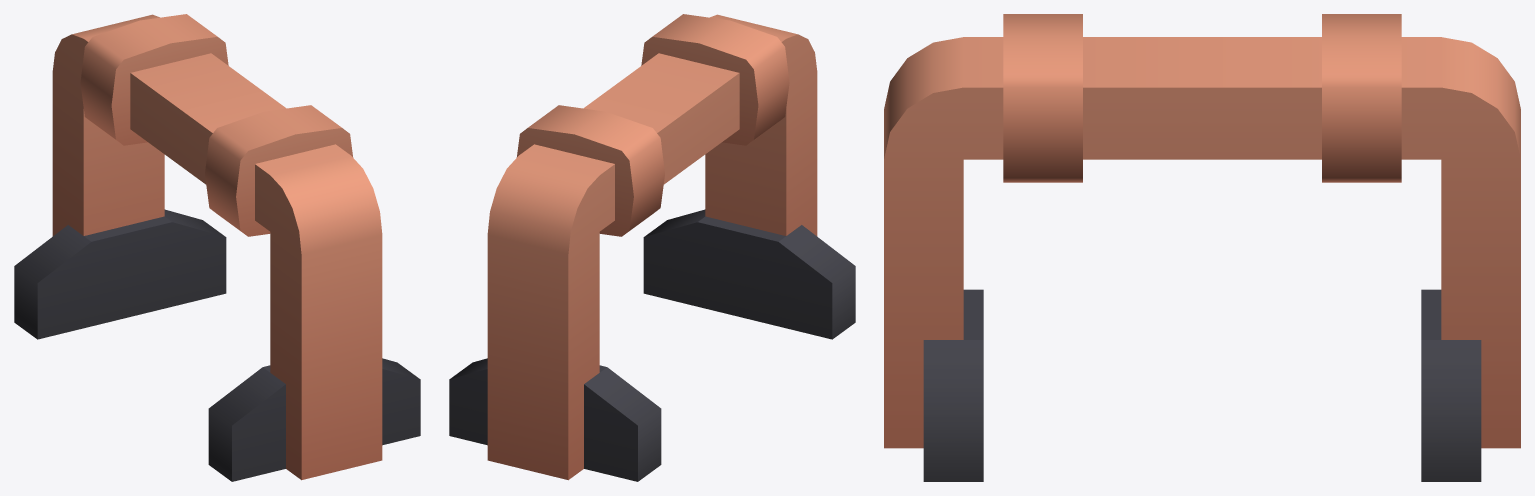
File: scanner-low.obj
3 renders of one model, left to right at view 1: azimuth 30°, elevation 25°; view 2: azimuth 150°, elevation 25°; view 3: azimuth 270°, elevation 25°, orthographic. The views are drawn at different scales.
Parts seen in each view (by area): view 1: scanner-low; view 2: scanner-low; view 3: scanner-low.
Boxes of the visible parts, box(x1,y1,x2,y2) form: scanner-low: box(14, 14, 420, 481); scanner-low: box(449, 14, 855, 481); scanner-low: box(884, 14, 1520, 481).
Bounding box in the file's own units: 0.7 × 1.07 × 1.6.
